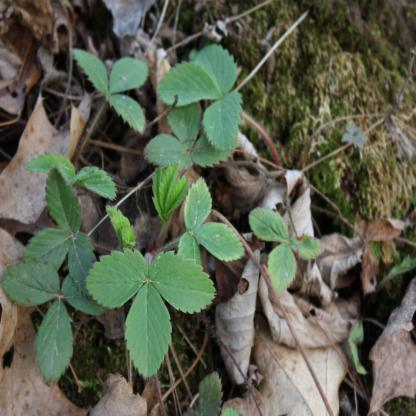strawberry leaf: (124, 282, 173, 376), (149, 252, 217, 314), (83, 247, 148, 310), (32, 296, 75, 384), (2, 256, 59, 309), (194, 217, 246, 267), (183, 176, 214, 237)
